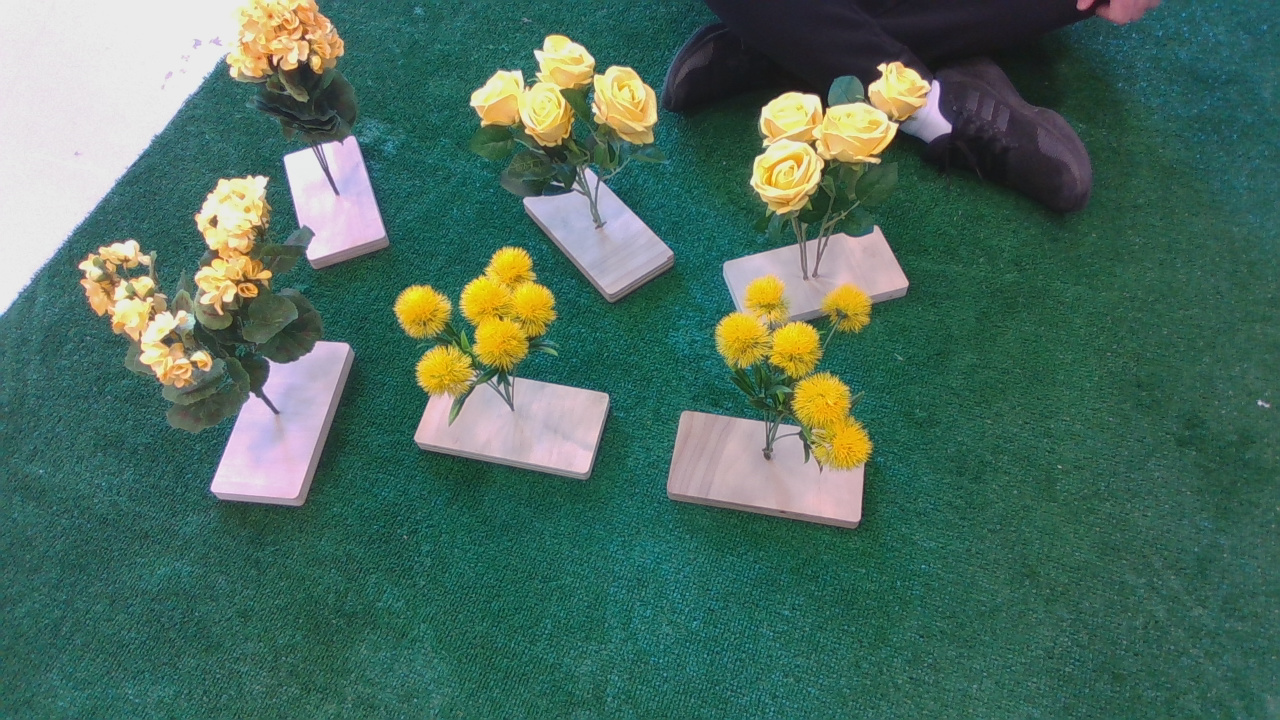dandelion: (713, 277, 885, 486), (397, 250, 566, 419)
geranium: (74, 177, 338, 434), (219, 2, 399, 179)
rose: (471, 33, 670, 215), (740, 65, 943, 239)
